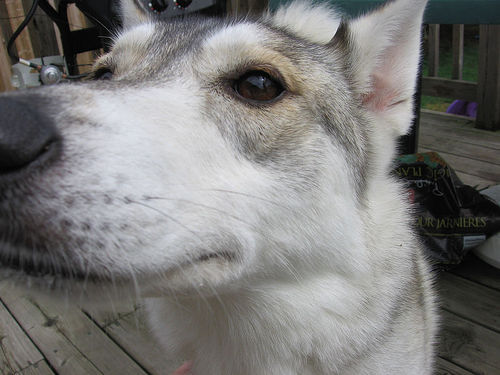dog: (0, 0, 432, 373)
